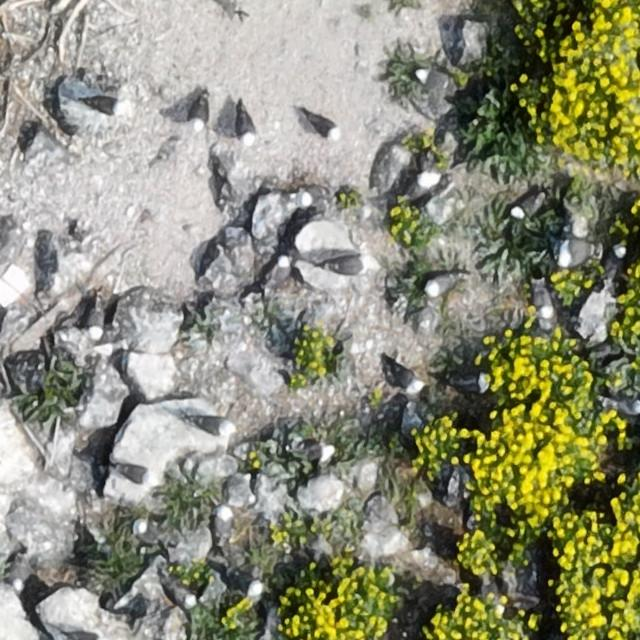umineko: (530, 271, 561, 319), (407, 166, 437, 202), (555, 240, 593, 268), (326, 252, 374, 274), (238, 107, 261, 147), (294, 442, 340, 462), (189, 95, 212, 130), (416, 67, 452, 87), (189, 416, 229, 434), (512, 193, 541, 217), (305, 116, 336, 138), (395, 368, 423, 392), (604, 246, 626, 276), (215, 505, 233, 540), (169, 583, 195, 607), (426, 273, 457, 293), (300, 185, 325, 209), (267, 258, 290, 284), (119, 465, 152, 483), (132, 520, 158, 542), (455, 375, 485, 392), (87, 97, 118, 113), (87, 308, 104, 336), (613, 399, 640, 416), (245, 580, 265, 599)
